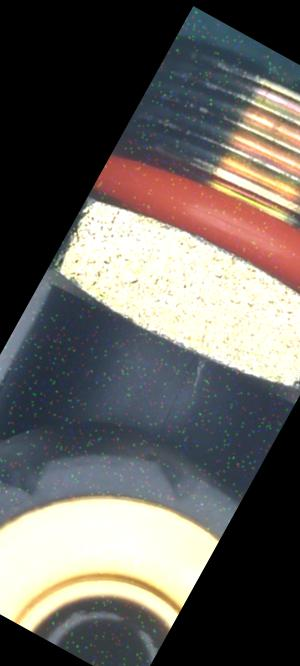bump: (138, 449, 213, 512), (1, 438, 60, 509)
joint line: (147, 389, 190, 441)
white mark: (184, 358, 216, 396)
